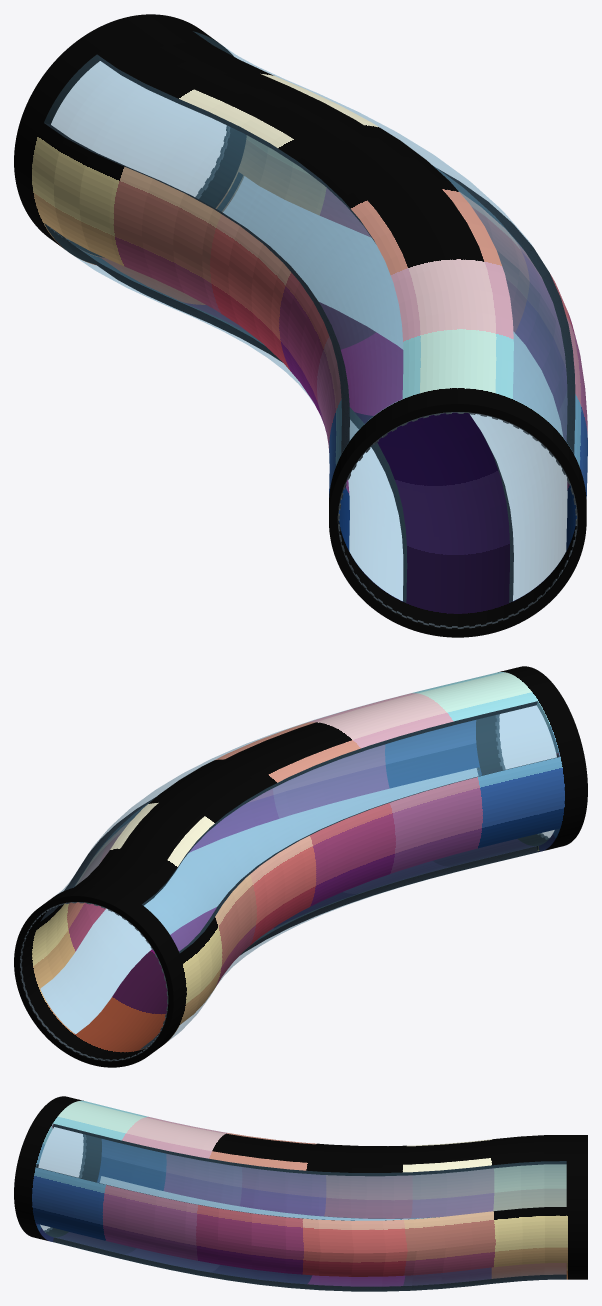
Rendered from LD50-Pipe-R-01.glb.
3 views of the same model, one above another, from view 1: azimuth 30°, elevation 25°; view 2: azimuth 150°, elevation 25°; view 3: azimuth 270°, elevation 25° (orthographic). The views are drawn at different scales.
Parts seen in each view (by area): view 1: Pipe-R-01, Pipe-R-01-Joint; view 2: Pipe-R-01, Pipe-R-01-Joint; view 3: Pipe-R-01.
Boxes of the visible parts, x1,y1,x2,y2 form: Pipe-R-01: (14,14,587,637); Pipe-R-01-Joint: (47,125,577,628); Pipe-R-01: (14,666,587,1067); Pipe-R-01-Joint: (20,714,549,1061); Pipe-R-01: (14,1096,587,1291).
Size of the model in its own units: 59.45 by 32.2 by 128.
2 materials, 2 textured.
